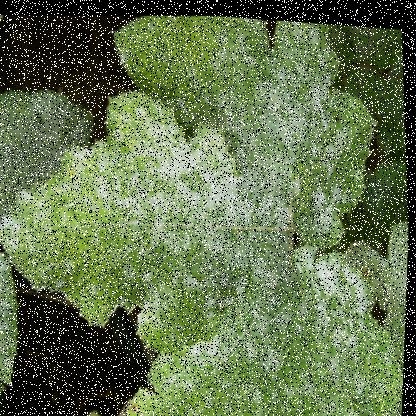PowderyMildew: (155, 9, 356, 262), (133, 229, 373, 415), (26, 111, 258, 296)
